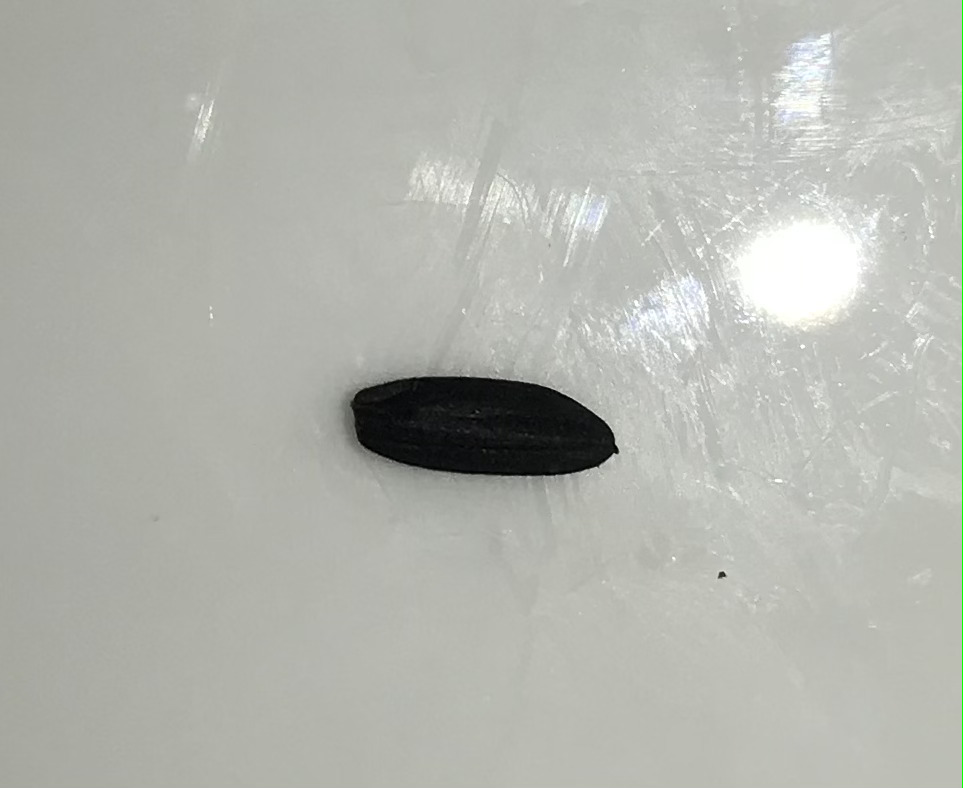Gao lut: (354, 374, 625, 480)
